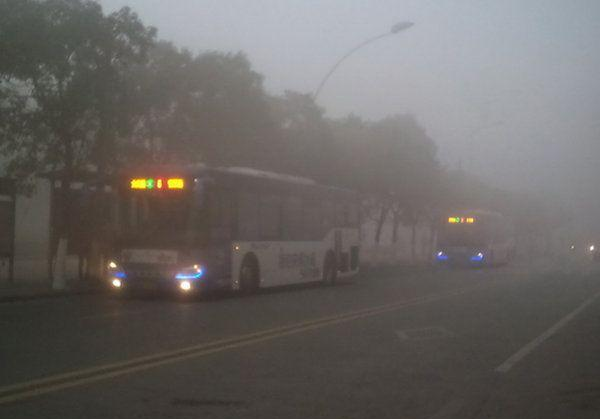bus: (104, 163, 364, 303), (430, 210, 518, 269)
